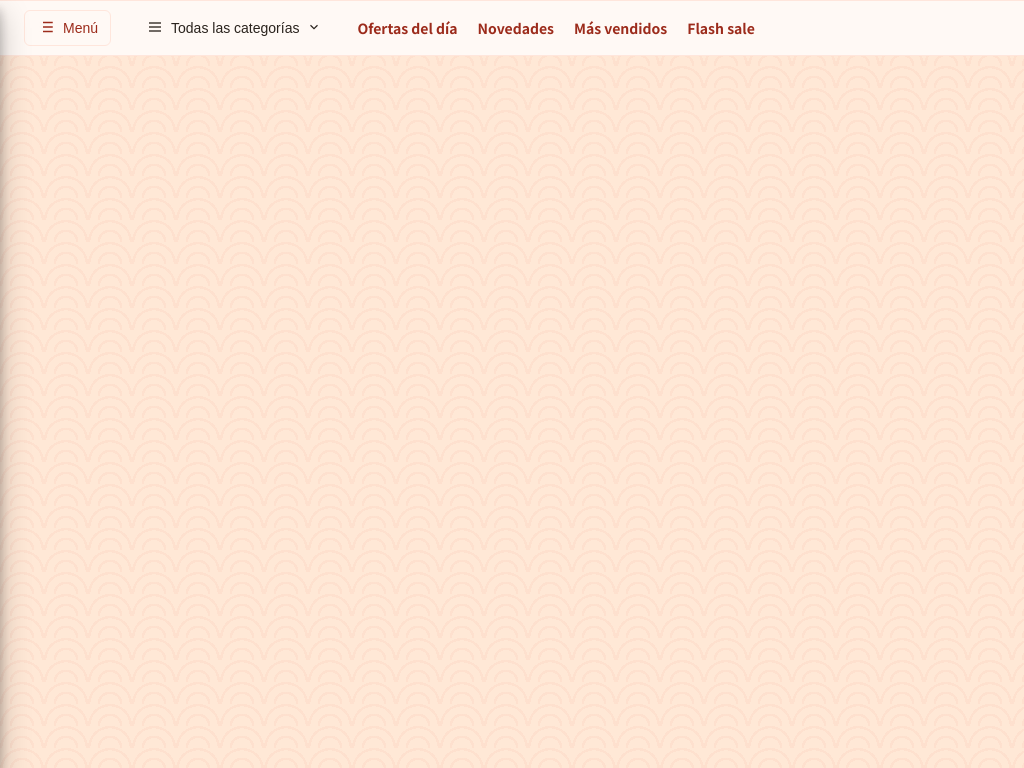
Test: happy escritorio: al abrir Todas las categorías se listan solo las raíces y sus subcategorías ordenadas alfabéticamente, enlazadas a /category/:id
The width and height of the screenshot is (1024, 768).
Click the button "Todas las categorías" at (234,28), box left=135, top=11, right=333, bottom=46
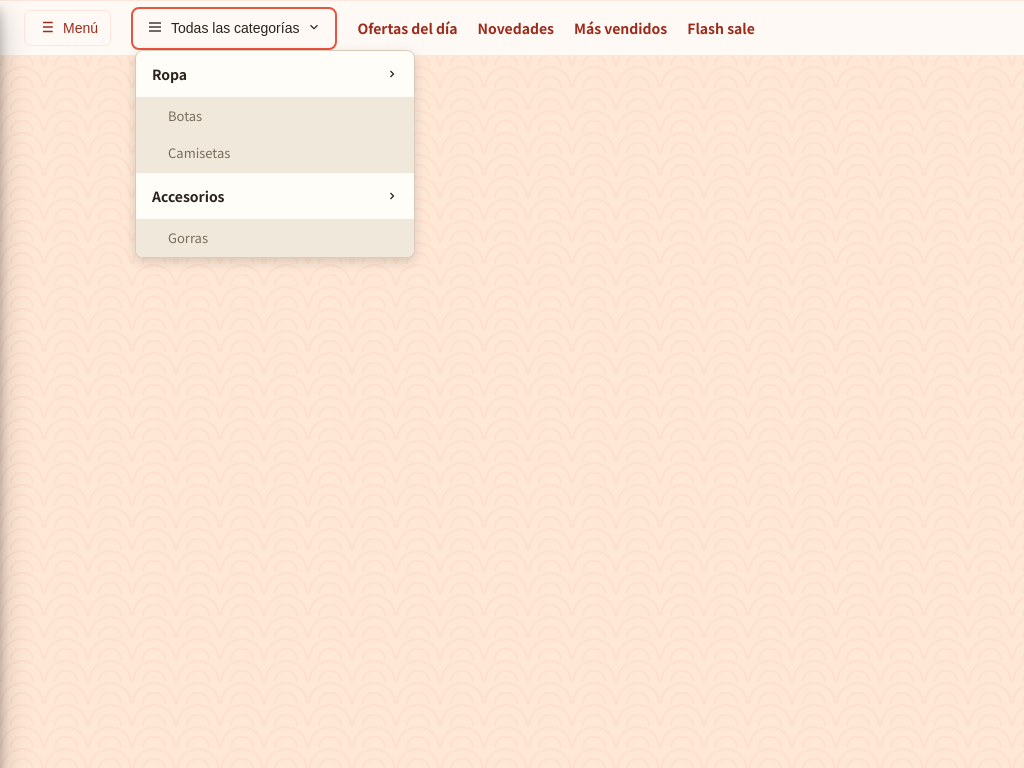
Now the number of links "Ropa" is 2, box left=136, top=51, right=414, bottom=98; left=136, top=173, right=414, bottom=220
